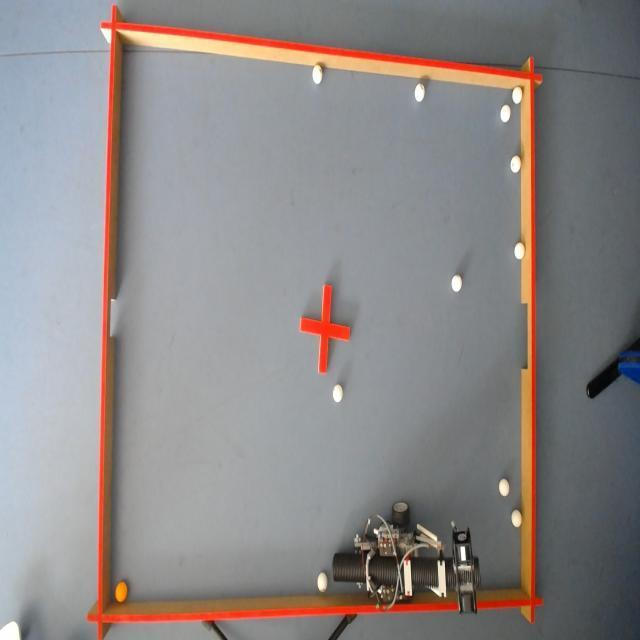orange: (114, 580, 129, 602)
robot: (341, 502, 486, 619)
white: (450, 272, 463, 294), (509, 154, 522, 174), (512, 238, 524, 259), (498, 477, 511, 496), (500, 102, 512, 122), (316, 572, 326, 594), (312, 62, 322, 84), (511, 85, 522, 104), (512, 508, 522, 528), (412, 84, 423, 102), (332, 386, 342, 404)
